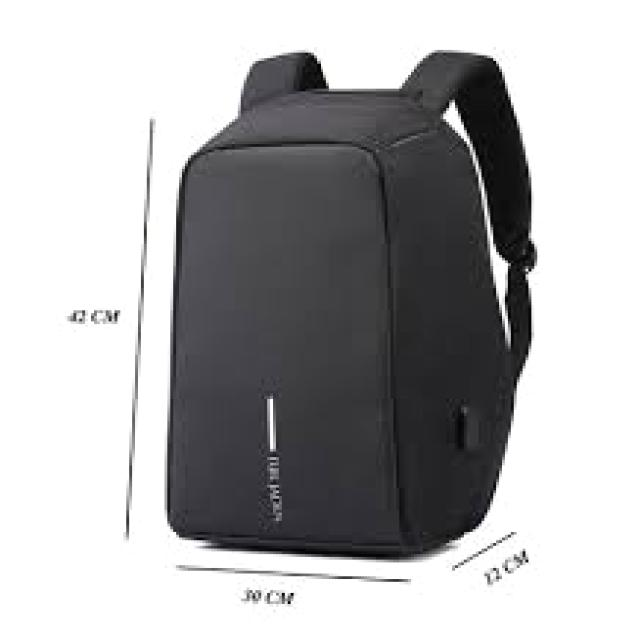backpack: (160, 48, 538, 558)
